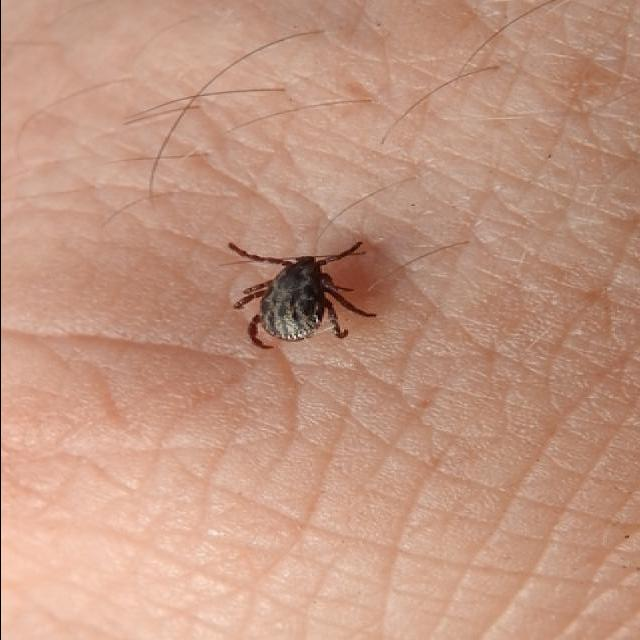Dermacentor Reticulatus-M: (227, 242, 377, 348)
